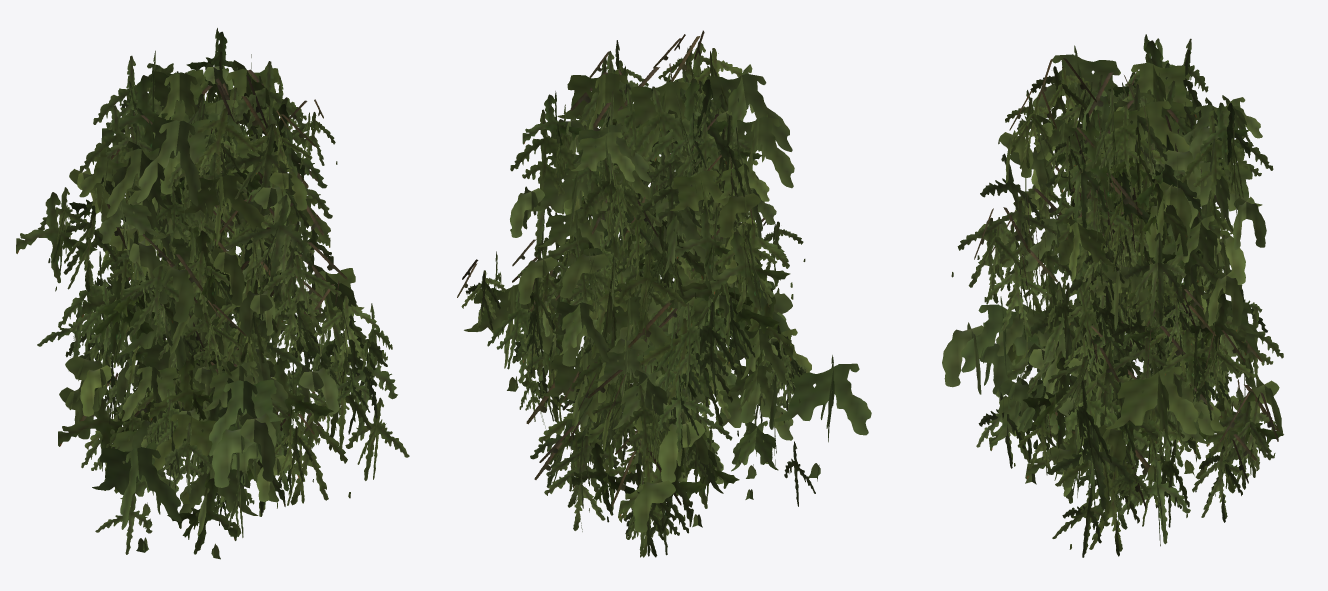
File: hedge-shrub-lod1.glb
3 views of the same model, side by side, from view 1: azimuth 30°, elevation 25°; view 2: azimuth 150°, elevation 25°; view 3: azimuth 270°, elevation 25° (orthographic).
Parts seen in each view (by area): view 1: foliage; view 2: foliage; view 3: foliage.
Boxes of the visible parts, bbox=[...] form: foliage: bbox=[16, 28, 409, 559]; foliage: bbox=[457, 30, 871, 557]; foliage: bbox=[942, 34, 1283, 557].
Size of the model in its own units: 1 by 1.26 by 0.9706.
1 material, 1 textured.
